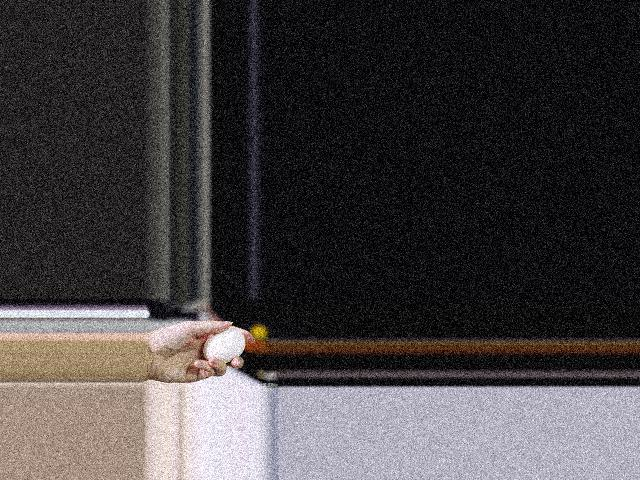egg: (204, 328, 246, 363)
